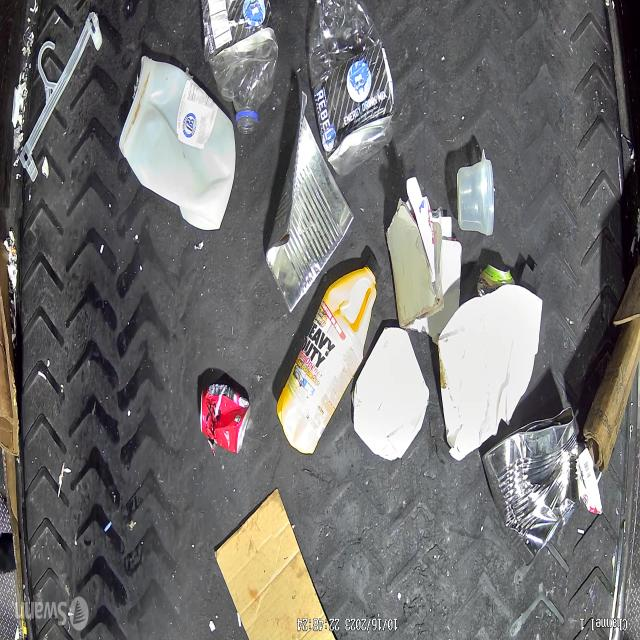can: (264, 85, 356, 314), (482, 405, 580, 562), (198, 381, 250, 456), (476, 265, 512, 295)
milk_jug: (118, 55, 236, 228)
non_white_jug: (279, 259, 384, 458)
plastic_bottle: (308, 0, 394, 178), (202, 0, 278, 134)
